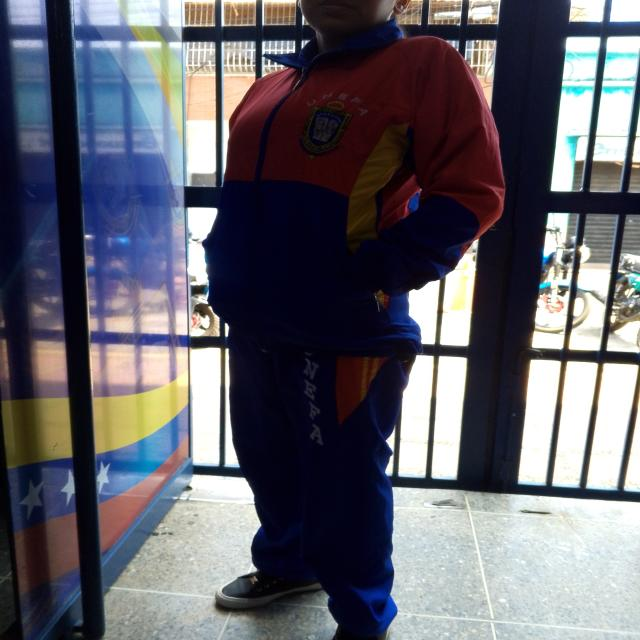chaqueta_unefa: (207, 17, 506, 355)
